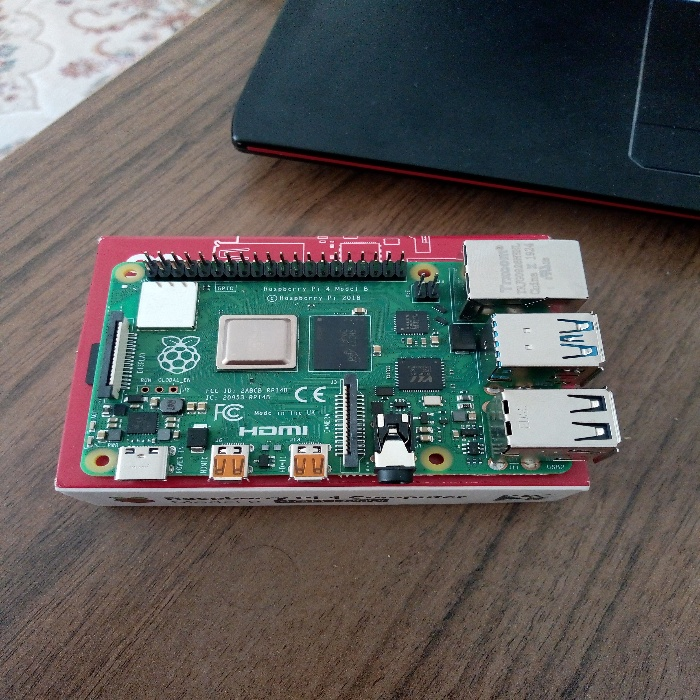raspberry: (90, 239, 638, 497)
